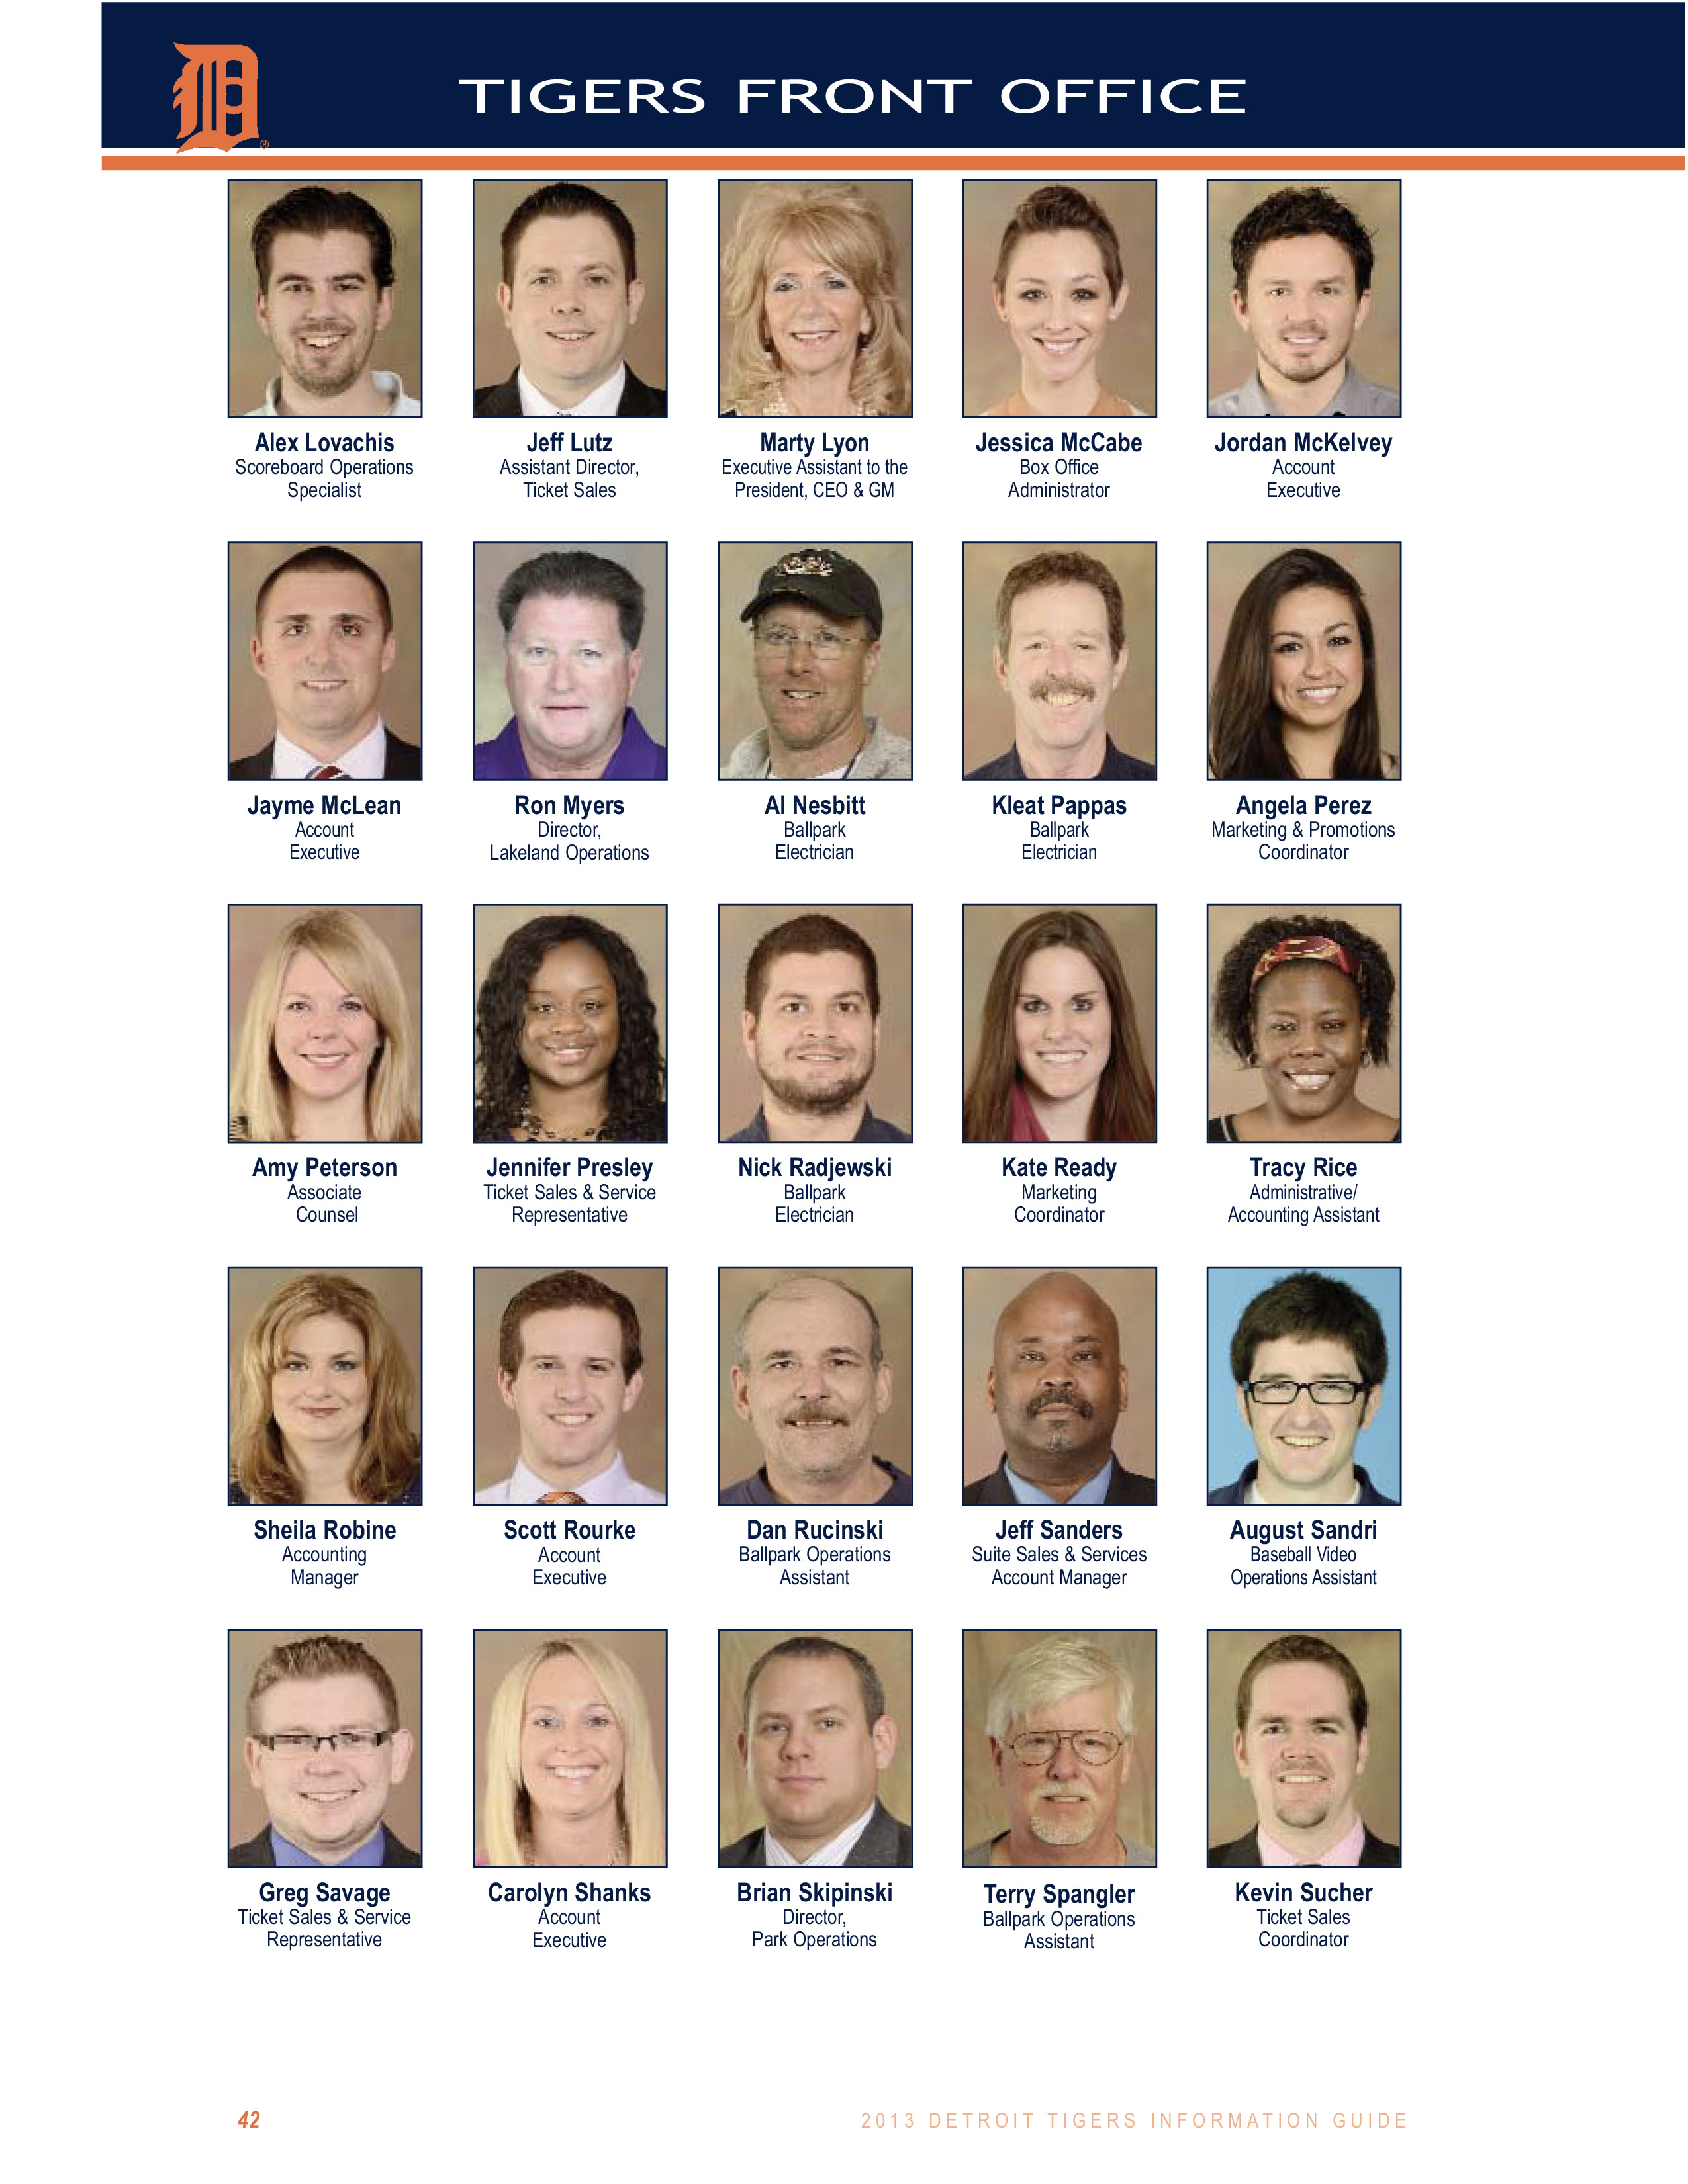caption: (232, 1874, 417, 1971), (970, 1512, 1165, 1599), (231, 1152, 417, 1239), (1215, 424, 1395, 512), (1229, 1870, 1383, 1971), (473, 1142, 668, 1221), (1222, 1512, 1388, 1604), (727, 1884, 903, 1971), (720, 429, 910, 509), (972, 1877, 1145, 1964), (479, 792, 660, 876), (246, 785, 413, 876), (496, 1877, 656, 1968), (963, 429, 1156, 503), (1206, 792, 1399, 865), (227, 433, 406, 507), (1218, 1152, 1383, 1232), (732, 1516, 911, 1588), (254, 1516, 397, 1601), (732, 1149, 910, 1214), (509, 1501, 637, 1592), (986, 1152, 1149, 1221), (762, 778, 876, 865), (493, 429, 645, 493), (979, 801, 1131, 865)
figure: (709, 181, 922, 424), (220, 1266, 424, 1516), (716, 892, 911, 1152), (963, 1255, 1156, 1517), (1199, 1627, 1406, 1870), (1199, 895, 1403, 1142), (1206, 535, 1406, 785), (713, 1266, 918, 1509), (473, 1618, 663, 1881), (223, 902, 426, 1145), (720, 1626, 922, 1868), (706, 534, 906, 778), (466, 902, 667, 1145), (1206, 1262, 1403, 1509), (227, 534, 417, 789), (966, 170, 1156, 424), (231, 181, 424, 429), (1202, 181, 1408, 413), (227, 1627, 420, 1870), (470, 1275, 668, 1505), (963, 906, 1160, 1138), (475, 535, 663, 778), (479, 174, 672, 409), (966, 1622, 1145, 1874), (963, 534, 1142, 782), (177, 27, 266, 152)
section: (447, 57, 1222, 122)
